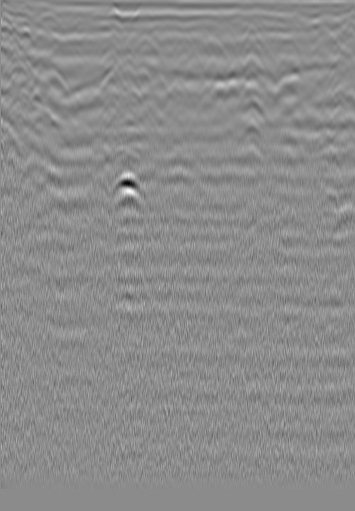가스: (104, 170, 155, 203)
상수: (37, 20, 57, 40)
오수: (303, 29, 323, 49)
우수: (171, 23, 191, 43)
